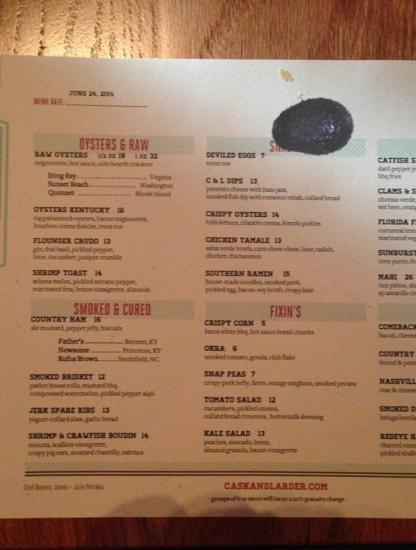Avocado: (271, 85, 354, 168)
